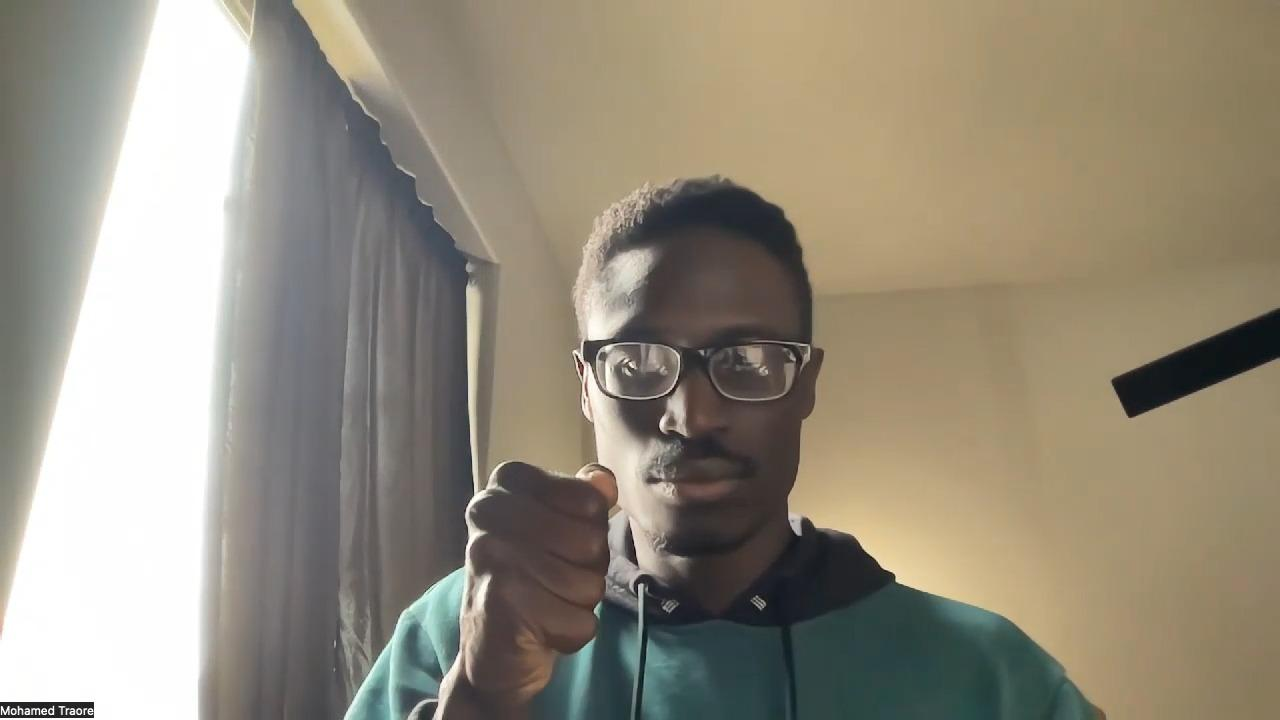Rock: (460, 458, 617, 707)
